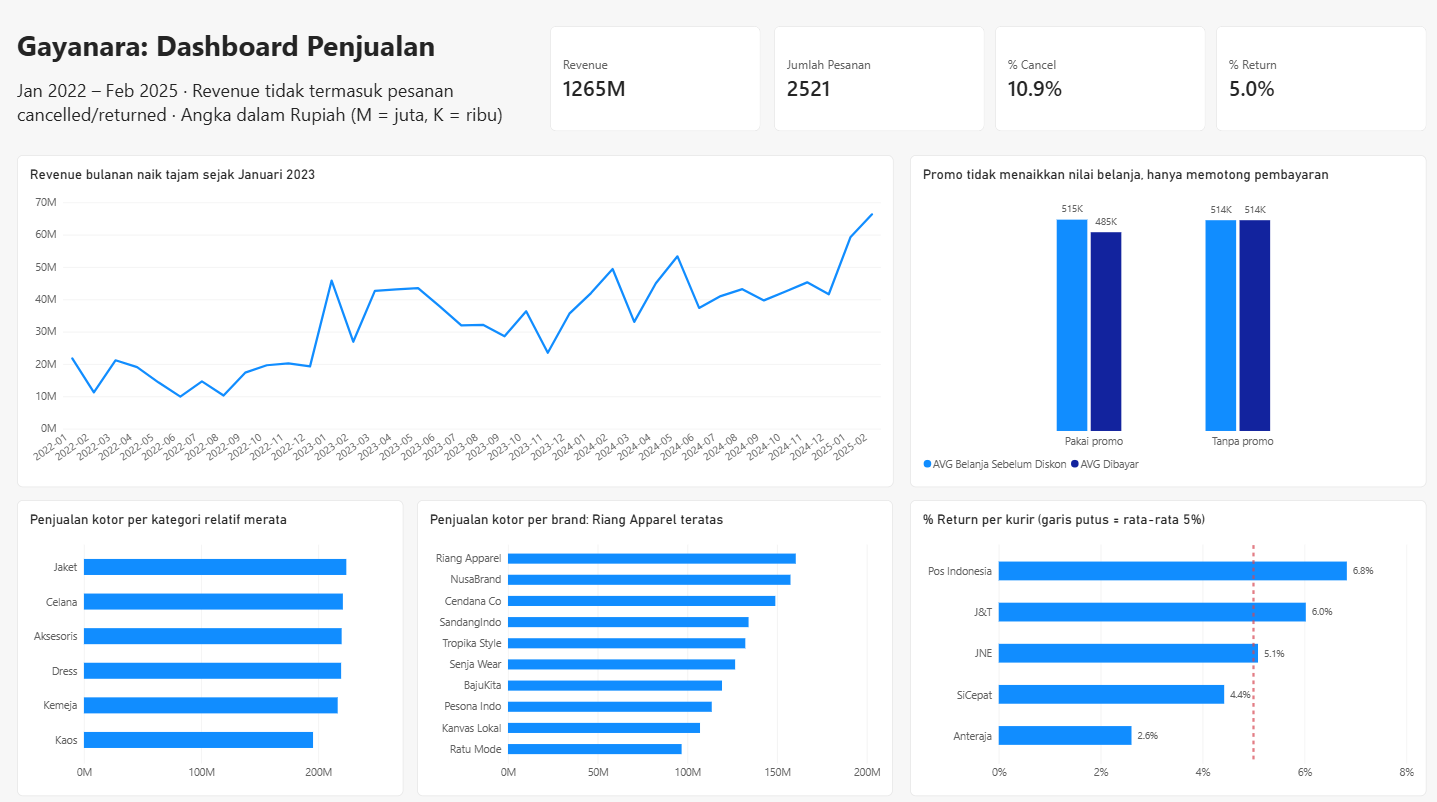

The dashboard page shown, as its layout file describes it:
{"tool":"powerbi","page":{"name":"Page 1","canvas":[1920,1080],"ordinal":0},"visuals":[{"type":"cardVisual","fields":{"Data":["orders_clean.Revenue"]},"box":[735.3,42.3,280.1,140.1],"z":0},{"type":"cardVisual","fields":{"Data":["orders_clean.Jumlah Pesanan"]},"box":[1032.9,42.3,280.1,140.1],"z":1},{"type":"cardVisual","fields":{"Data":["orders_clean.% Cancel"]},"box":[1327.7,42.3,280.1,140.1],"z":2},{"type":"cardVisual","fields":{"Data":["orders_clean.% Return"]},"box":[1620.9,42.3,280.1,140.1],"z":3},{"type":"lineChart","title":"Revenue bulanan naik tajam sejak Januari 2023","fields":{"Category":["orders_clean.Bulan"],"Y":["orders_clean.Revenue"]},"box":[26.3,214.5,1165.7,442.1],"z":4},{"type":"clusteredBarChart","title":"Penjualan kotor per kategori relatif merata","fields":{"Category":["products_clean.category"],"Y":["order_items.Penjualan Kotor"]},"box":[26.3,672.6,513.6,393.9],"z":5},{"type":"clusteredBarChart","title":"Penjualan kotor per brand: Riang Apparel teratas","fields":{"Category":["products_clean.brand"],"Y":["order_items.Penjualan Kotor"]},"box":[558.8,672.6,633.2,393.9],"z":6},{"type":"clusteredBarChart","title":"% Return per kurir (garis putus = rata-rata 5%)","fields":{"Category":["orders_clean.courier"],"Y":["orders_clean.% Return"]},"box":[1213.9,672.6,687.2,393.9],"z":7},{"type":"clusteredColumnChart","title":"Promo tidak menaikkan nilai belanja, hanya memotong pembayaran","fields":{"Category":["orders_clean.Kelompok Promo"],"Y":["orders_clean.AVG Belanja Sebelum Diskon","orders_clean.AVG Dibayar"]},"box":[1213.9,214.5,687.2,442.1],"z":8},{"type":"textbox","box":[26.3,42.3,709.1,140.1],"z":9}]}

Visuals, with their boxes in screenshot pixels (x1, y1, x2, y2), scaled from the page's 1920x1080 canvas onto the 1437x802 screenshot:
cardVisual - orders_clean.Revenue: 550 31 760 135
cardVisual - orders_clean.Jumlah Pesanan: 773 31 983 135
cardVisual - orders_clean.% Cancel: 994 31 1203 135
cardVisual - orders_clean.% Return: 1213 31 1423 135
"Revenue bulanan naik tajam sejak Januari 2023" lineChart: 20 159 892 488
"Penjualan kotor per kategori relatif merata" clusteredBarChart: 20 499 404 792
"Penjualan kotor per brand: Riang Apparel teratas" clusteredBarChart: 418 499 892 792
"% Return per kurir (garis putus = rata-rata 5%)" clusteredBarChart: 909 499 1423 792
"Promo tidak menaikkan nilai belanja, hanya memotong pembayaran" clusteredColumnChart: 909 159 1423 488
textbox: 20 31 550 135
